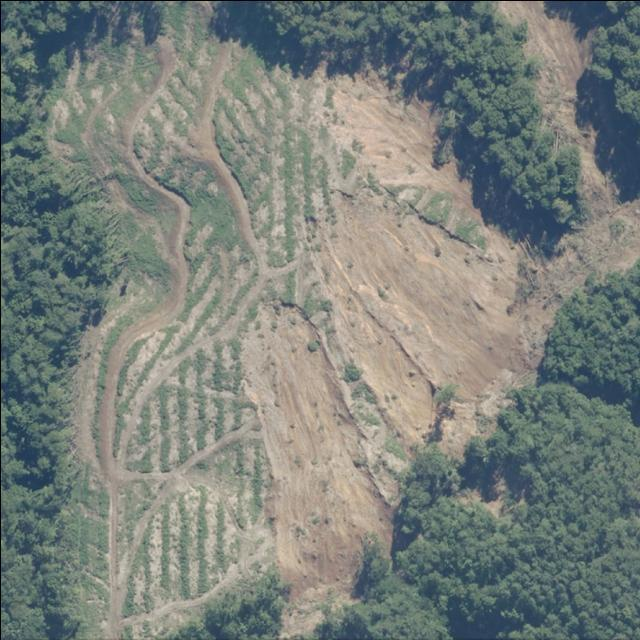landslide: (45, 3, 640, 639)
